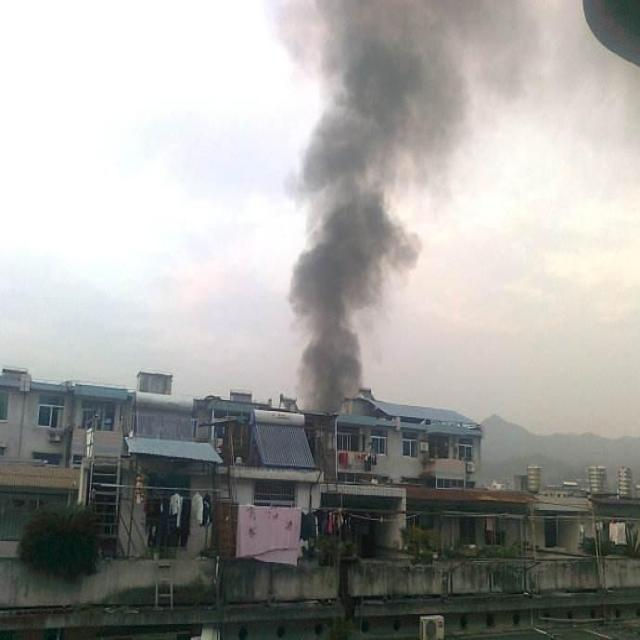Smoke: (280, 0, 539, 410)
